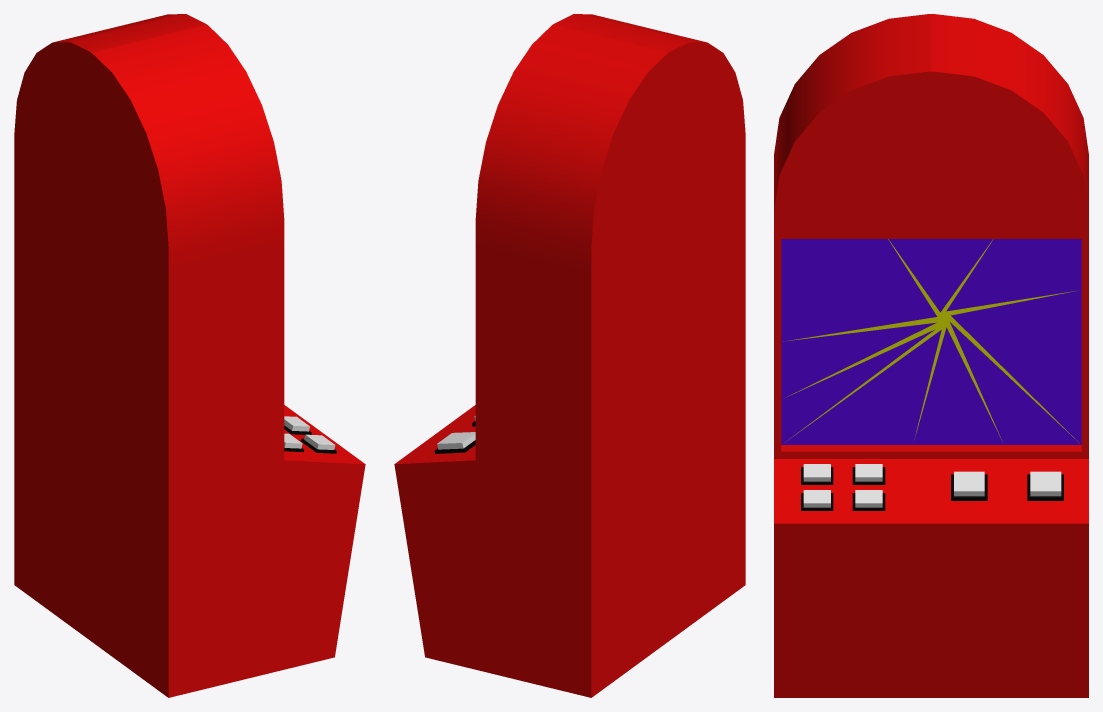
File: Slot Machine 3 Low Poly Damaged Colour ID.fbx
3 views of the same model, side by side, from view 1: azimuth 30°, elevation 25°; view 2: azimuth 150°, elevation 25°; view 3: azimuth 270°, elevation 25° (orthographic). The views are drawn at different scales.
Visible parts, largest first — view 1: Slot_low_3; view 2: Slot_low_3; view 3: Slot_low_3.
Part boxes in pixels (box(x1,y1,x2,y2)): Slot_low_3: box(14, 14, 365, 697); Slot_low_3: box(394, 14, 745, 697); Slot_low_3: box(774, 14, 1088, 697).
Bounding box in the file's own units: 2.43 × 6.94 × 3.3.
